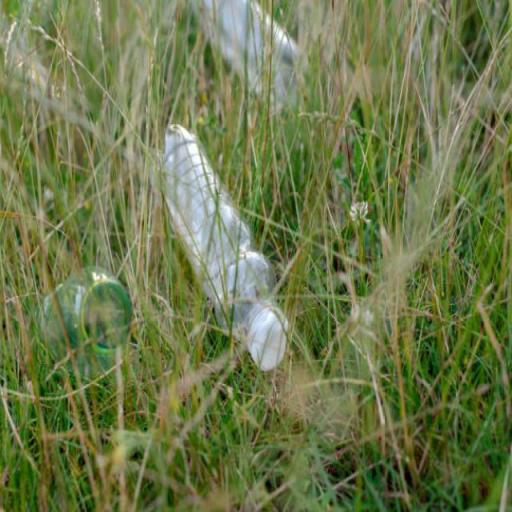bottle: (155, 124, 288, 369), (195, 2, 296, 109), (42, 267, 131, 375)
